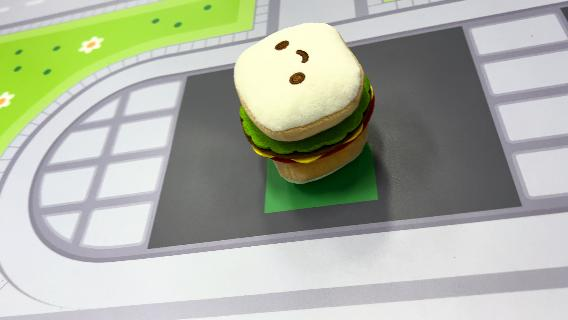sandwich: (232, 21, 378, 186)
